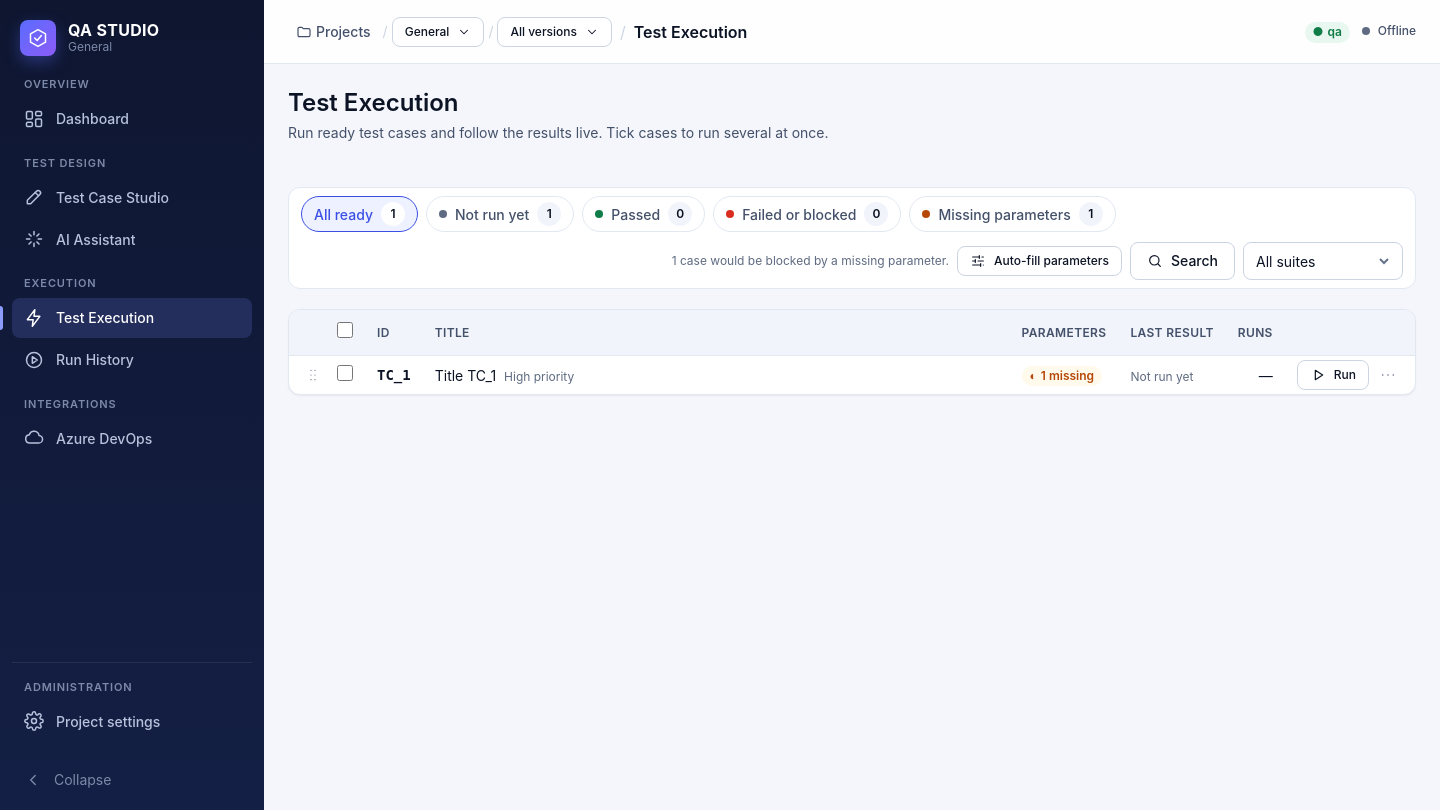
Test case: starting a run › will not start while a project is not set up, and links to it
Click the button with aria-label "Run TC_1" at x=1333, y=375, box x1=1297 y1=360 x2=1369 y2=390
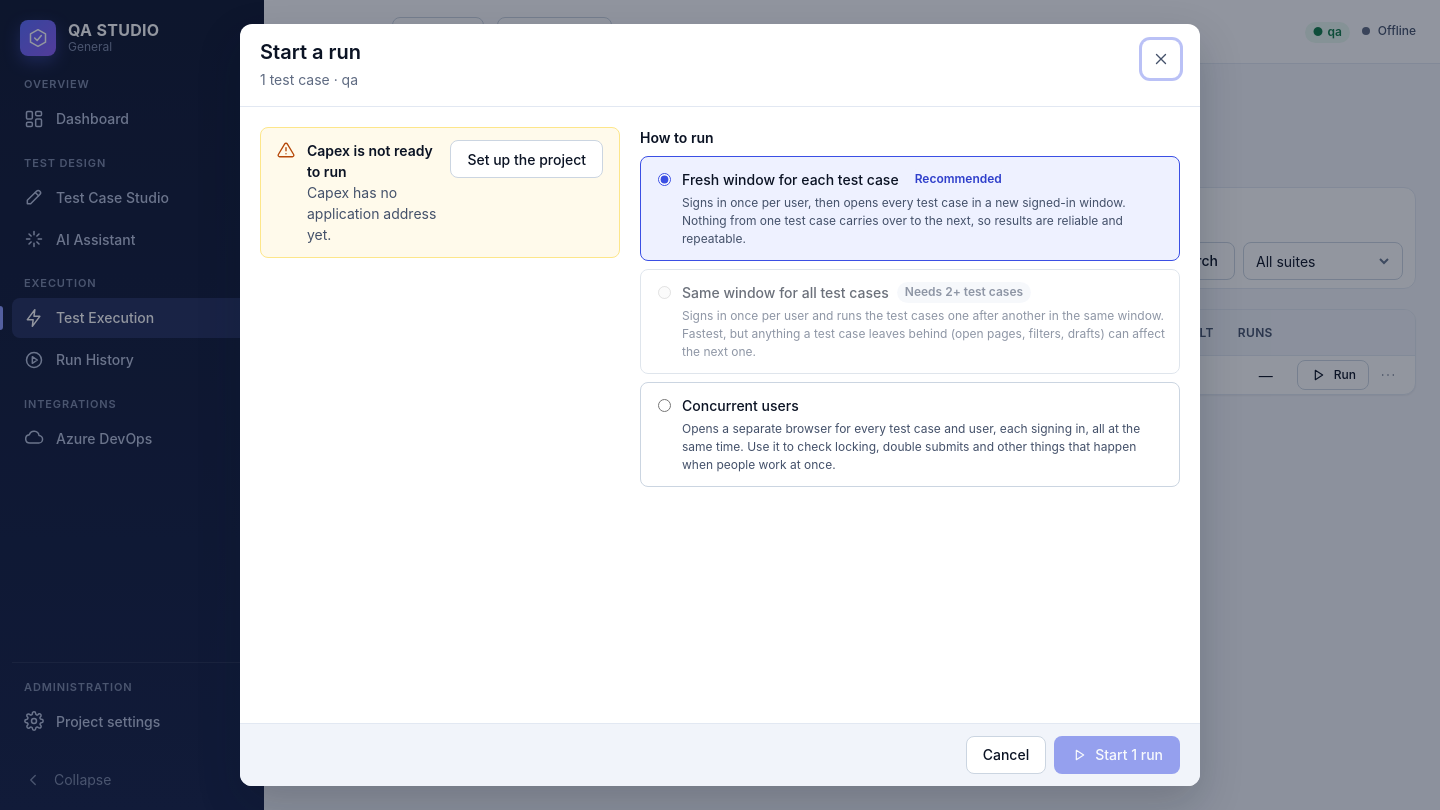
Check: the text "Capex has no application address yet." is shown, box x1=307 y1=182 x2=438 y2=245
Check: the button "Start 1 run" is disabled, box x1=1054 y1=736 x2=1180 y2=774
